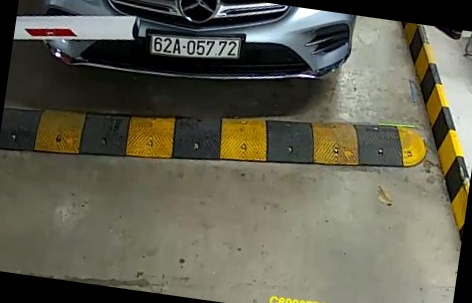plate: (149, 31, 247, 64)
